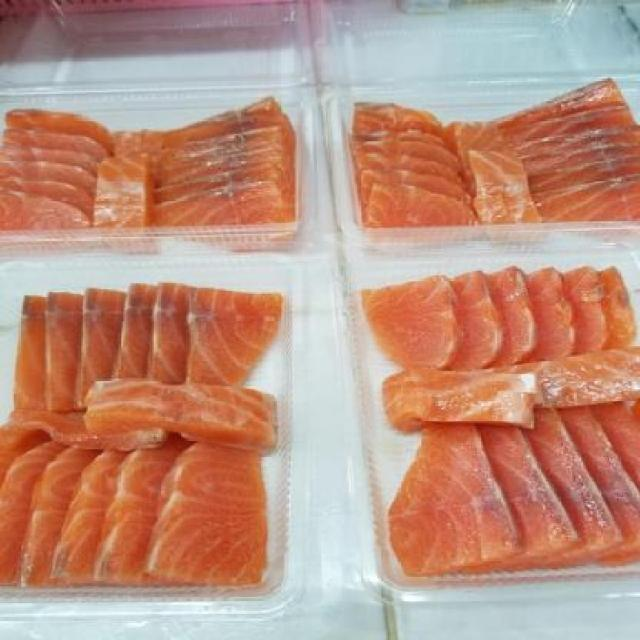salmon: (343, 268, 640, 580), (9, 270, 280, 598), (329, 83, 639, 239), (2, 102, 300, 246)
